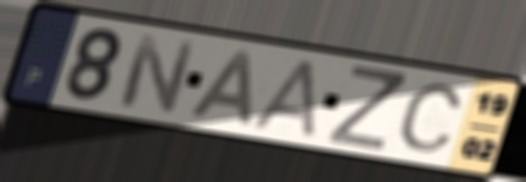8: (62, 25, 124, 103)
A: (248, 56, 320, 141), (185, 47, 255, 128)
C: (394, 81, 467, 154)
N: (115, 31, 199, 117)
Z: (324, 62, 409, 154)
